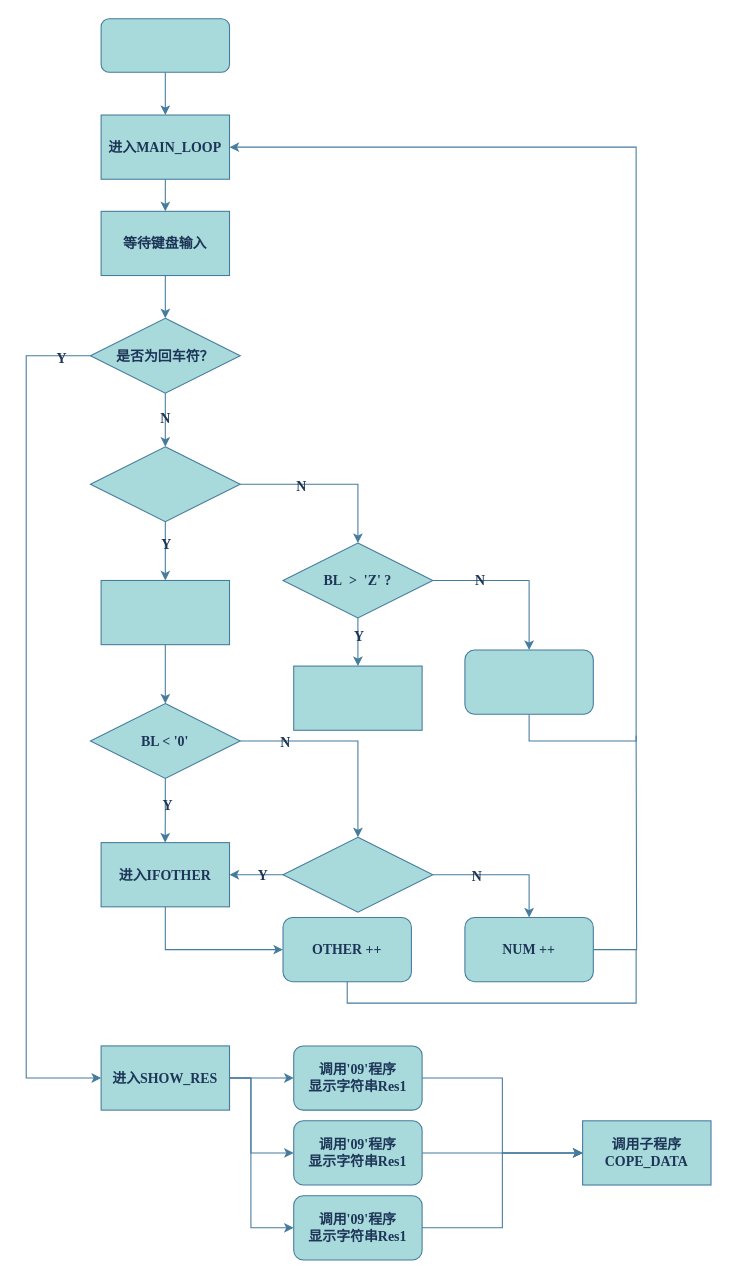
Some shapes in this 730 by 1279 pixel diagram are drawn without their labels. The shapes that lost their labels are listed below. From the top down, each one's box as (x1, y1, x2, y2) in pixels, then its label:
(100, 18, 230, 72): 开始
(89, 446, 240, 522): BL < 'A' ?
(100, 579, 230, 645): 进入IFNUM
(293, 665, 422, 730): 进入IFLETTER
(464, 649, 593, 714): LETTER ++
(282, 836, 433, 912): BL > '9' ?
